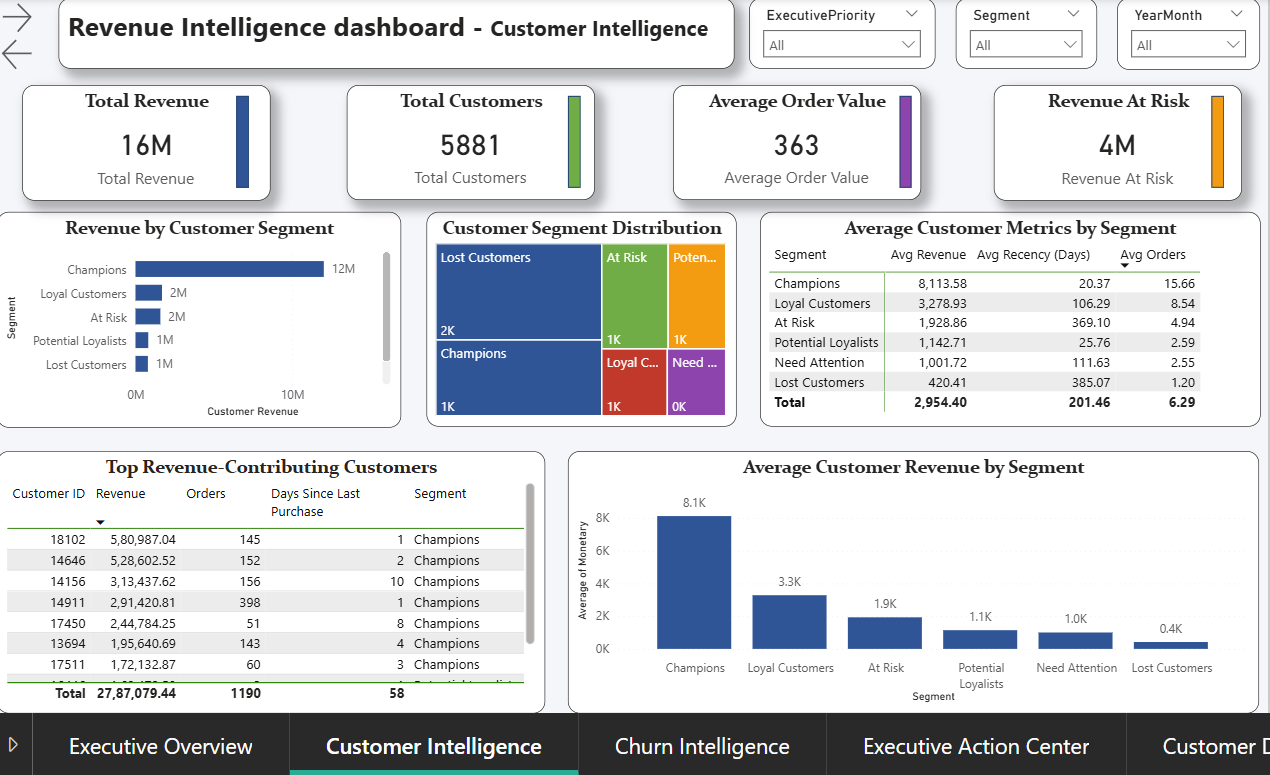

Layout of this report page (visuals, bound fields, positions):
{"tool":"powerbi","page":{"name":"Customer Intelligence","canvas":[1280,720],"ordinal":1},"visuals":[{"type":"clusteredBarChart","title":"Revenue by Customer Segment","fields":{"Category":["rfm_customers.Segment"],"Y":["rfm_customers.Customer Revenue"]},"box":[0,215.4,407.1,217.5],"z":0},{"type":"treemap","title":"Customer Segment Distribution","fields":{"Group":["rfm_customers.Segment"],"Values":["rfm_customers.Customer Count"]},"box":[432,216,312,216],"z":1000},{"type":"tableEx","title":"Top Revenue-Contributing Customers","fields":{"Values":["rfm_customers.Customer ID","Sum(rfm_customers.Monetary)","Sum(rfm_customers.Frequency)","Sum(rfm_customers.Recency)","rfm_customers.Segment"]},"box":[0,456,552,264],"z":2000},{"type":"pivotTable","title":"Average Customer Metrics by Segment","fields":{"Rows":["rfm_customers.Segment"],"Values":["Avg(rfm_customers.Monetary)","Avg(rfm_customers.Recency)","Avg(rfm_customers.Frequency)"]},"box":[768,216,504,216],"z":3000},{"type":"clusteredColumnChart","title":"Average Customer Revenue by Segment","fields":{"Category":["rfm_customers.Segment"],"Y":["Avg(rfm_customers.Monetary)"]},"box":[576,456,696,264],"z":4000},{"type":"slicer","fields":{"Values":["monthly_business_summary.YearMonth"]},"box":[1128,0,144,72],"z":5000},{"type":"slicer","fields":{"Values":["rfm_customers.Segment"]},"box":[965.7,0,142.1,71.1],"z":6000},{"type":"slicer","fields":{"Values":["revenue_at_risk.ExecutivePriority"]},"box":[758.1,0,187.4,71.1],"z":7000},{"type":"card","title":"Total Customers","fields":{"Values":["revenue_at_risk.Total Customers"]},"box":[353.1,88.3,250,116],"z":8000},{"type":"card","title":"Total Revenue","fields":{"Values":["monthly_business_summary.Total Revenue"]},"box":[25.8,88.3,249.8,116.3],"z":9000},{"type":"card","title":"Average Order Value","fields":{"Values":["monthly_business_summary.Average Order Value"]},"box":[680.6,88.3,250,116],"z":10000},{"type":"card","title":"Revenue At Risk","fields":{"Values":["revenue_at_risk.Revenue At Risk"]},"box":[1003.7,88.3,249.8,116.3],"z":11000},{"type":"textbox","box":[62.5,0,680.6,71.1],"z":12000},{"type":"shape","box":[241.2,99.1,12.9,92.6],"z":13000},{"type":"shape","box":[575.1,99.1,12.9,92.6],"z":14000},{"type":"shape","box":[908.9,99.1,12,92.6],"z":15000},{"type":"shape","box":[1223.3,99.1,12.9,92.6],"z":16000},{"type":"actionButton","box":[0,0,100,40],"z":17000},{"type":"actionButton","box":[0,36.6,99.1,40.9],"z":18000}]}

Visuals, with their boxes on the page's 1280x720 design canvas (x1, y1, x2, y2). These are canvas units, not pixel positions in the 1270x775 screenshot, which may show the page scaled, cropped or inside an application window:
"Revenue by Customer Segment" clusteredBarChart: {"left": 0, "top": 215, "right": 407, "bottom": 433}
"Customer Segment Distribution" treemap: {"left": 432, "top": 216, "right": 744, "bottom": 432}
"Top Revenue-Contributing Customers" tableEx: {"left": 0, "top": 456, "right": 552, "bottom": 720}
"Average Customer Metrics by Segment" pivotTable: {"left": 768, "top": 216, "right": 1272, "bottom": 432}
"Average Customer Revenue by Segment" clusteredColumnChart: {"left": 576, "top": 456, "right": 1272, "bottom": 720}
slicer - monthly_business_summary.YearMonth: {"left": 1128, "top": 0, "right": 1272, "bottom": 72}
slicer - rfm_customers.Segment: {"left": 966, "top": 0, "right": 1108, "bottom": 71}
slicer - revenue_at_risk.ExecutivePriority: {"left": 758, "top": 0, "right": 946, "bottom": 71}
"Total Customers" card: {"left": 353, "top": 88, "right": 603, "bottom": 204}
"Total Revenue" card: {"left": 26, "top": 88, "right": 276, "bottom": 205}
"Average Order Value" card: {"left": 681, "top": 88, "right": 931, "bottom": 204}
"Revenue At Risk" card: {"left": 1004, "top": 88, "right": 1254, "bottom": 205}
textbox: {"left": 62, "top": 0, "right": 743, "bottom": 71}
shape: {"left": 241, "top": 99, "right": 254, "bottom": 192}
shape: {"left": 575, "top": 99, "right": 588, "bottom": 192}
shape: {"left": 909, "top": 99, "right": 921, "bottom": 192}
shape: {"left": 1223, "top": 99, "right": 1236, "bottom": 192}
actionButton: {"left": 0, "top": 0, "right": 100, "bottom": 40}
actionButton: {"left": 0, "top": 37, "right": 99, "bottom": 78}
